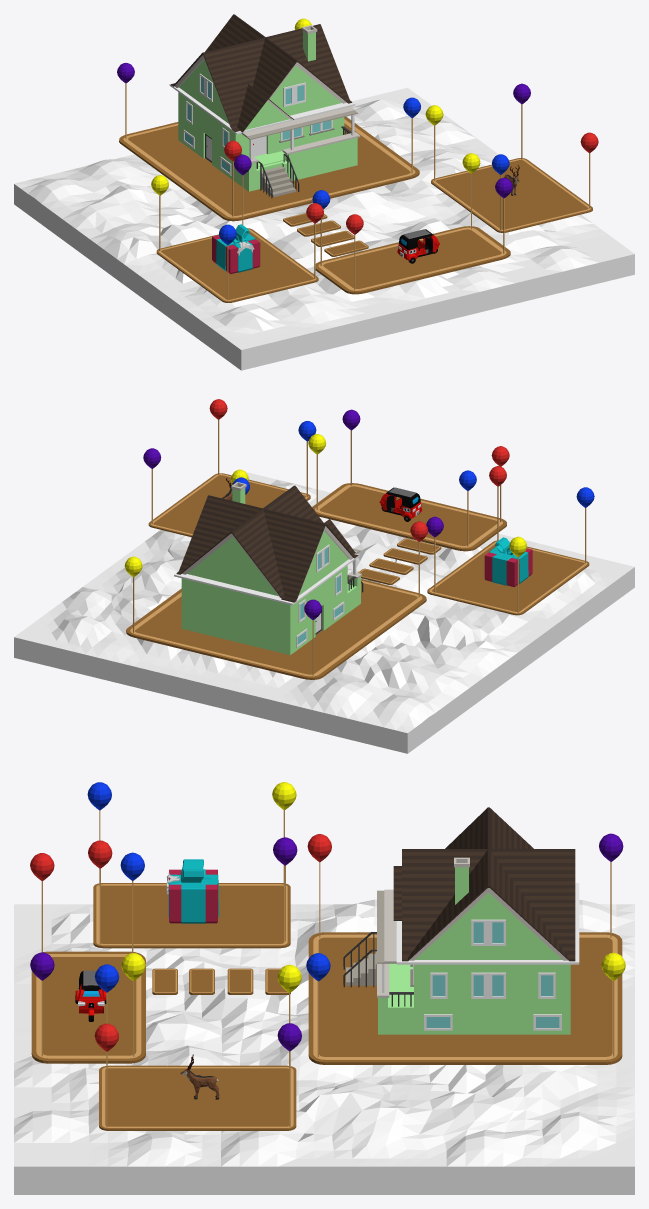
3 renders of one model, top to bottom at view 1: azimuth 30°, elevation 25°; view 2: azimuth 150°, elevation 25°; view 3: azimuth 270°, elevation 25°, orthographic. The views are drawn at different scales.
Parts seen in each view (by area): view 1: Cube.013, Cube.274, OBJRANDOM_GIANT_PRESENT, VEHICLES_TUC_TUC; view 2: Cube.013, Cube.274, OBJRANDOM_GIANT_PRESENT, VEHICLES_TUC_TUC; view 3: Cube.013, Cube.274, OBJRANDOM_GIANT_PRESENT, VEHICLES_TUC_TUC.
Part boxes in pixels (bbox=[...]): Cube.013: bbox=[14, 18, 634, 370]; Cube.274: bbox=[169, 14, 360, 198]; OBJRANDOM_GIANT_PRESENT: bbox=[212, 224, 260, 274]; VEHICLES_TUC_TUC: bbox=[397, 229, 439, 263]; Cube.013: bbox=[14, 399, 634, 753]; Cube.274: bbox=[174, 482, 363, 655]; OBJRANDOM_GIANT_PRESENT: bbox=[484, 537, 532, 587]; VEHICLES_TUC_TUC: bbox=[379, 487, 422, 521]; Cube.013: bbox=[14, 782, 634, 1194]; Cube.274: bbox=[343, 807, 579, 1034]; OBJRANDOM_GIANT_PRESENT: bbox=[166, 859, 218, 923]; VEHICLES_TUC_TUC: bbox=[75, 970, 106, 1021].
Size of the model in its own units: 4000 by 1711 by 4000.
37 materials, 2 textured.
